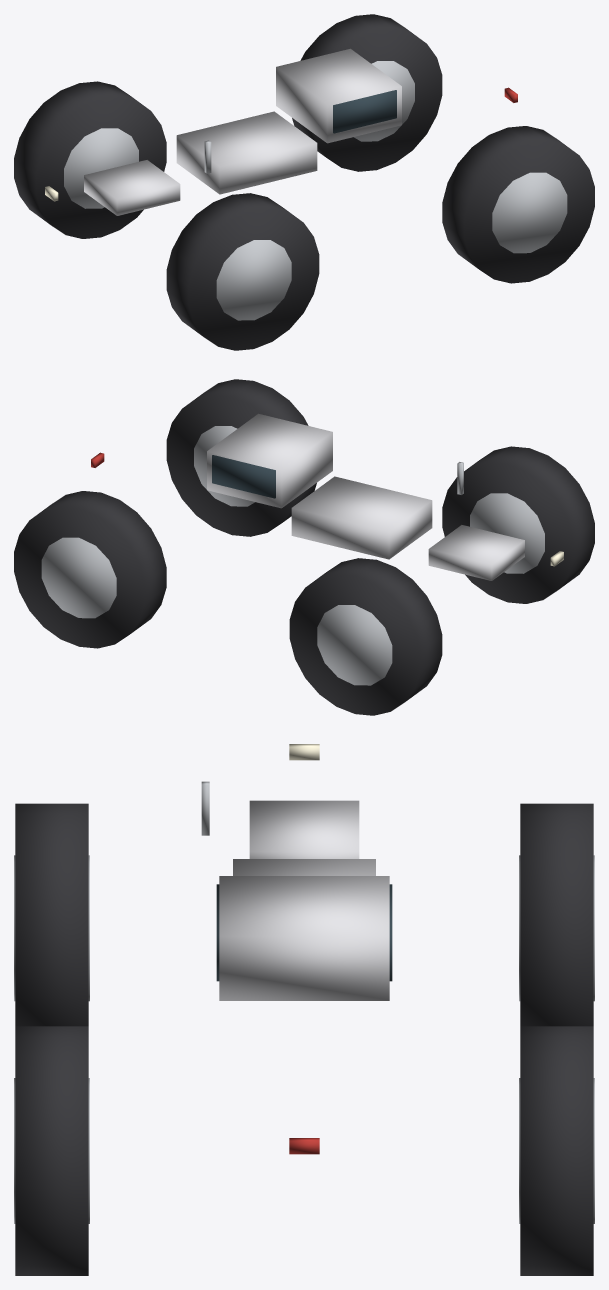
The model's file is tractor.glb.
3 views of the same model, one above another, from view 1: azimuth 30°, elevation 25°; view 2: azimuth 150°, elevation 25°; view 3: azimuth 270°, elevation 25° (orthographic). The views are drawn at different scales.
Visible parts, largest first — view 1: wheel_front_r, wheel_rear_r, wheel_front_l, wheel_rear_l, body_main, body_cabin, trim_rim__rear_r, trim_rim__front_r, body_hood, trim_rim__front_l, glass_cabin, trim_rim__rear_l; view 2: wheel_front_l, wheel_rear_l, wheel_front_r, wheel_rear_r, body_main, body_cabin, trim_rim__rear_l, trim_rim__front_l, body_hood, trim_rim__front_r, glass_cabin, trim_rim__rear_r; view 3: body_cabin, wheel_rear_l, wheel_rear_r, wheel_front_l, wheel_front_r, body_hood, body_main, glass_cabin.
Boxes of the visible parts, x1,y1,x2,y2 form: wheel_front_r: (166,193,319,350); wheel_rear_r: (442,126,594,283); wheel_front_l: (14,81,166,238); wheel_rear_l: (292,14,442,171); body_main: (176,111,317,194); body_cabin: (276,48,401,143); trim_rim__rear_r: (492,172,567,253); trim_rim__front_r: (216,240,291,320); body_hood: (84,160,180,215); trim_rim__front_l: (64,128,138,208); glass_cabin: (333,90,396,133); trim_rim__rear_l: (354,61,414,141); wheel_front_l: (289,558,442,715); wheel_rear_l: (14,491,166,648); wheel_front_r: (442,446,594,603); wheel_rear_r: (166,379,316,536); body_main: (291,476,432,559); body_cabin: (207,413,332,508); trim_rim__rear_l: (41,537,116,618); trim_rim__front_l: (317,605,392,685); body_hood: (428,525,524,580); trim_rim__front_r: (470,493,544,573); glass_cabin: (212,455,275,498); trim_rim__rear_r: (194,426,254,506); body_cabin: (219,876,389,1000); wheel_rear_l: (520,1026,593,1275); wheel_rear_r: (15,1026,88,1275); wheel_front_l: (520,803,593,1026); wheel_front_r: (15,803,88,1026); body_hood: (249,800,359,858); body_main: (233,859,375,875); glass_cabin: (216,884,392,981).
Bounding box in the file's own units: 4.36 × 1.5 × 2.86.
